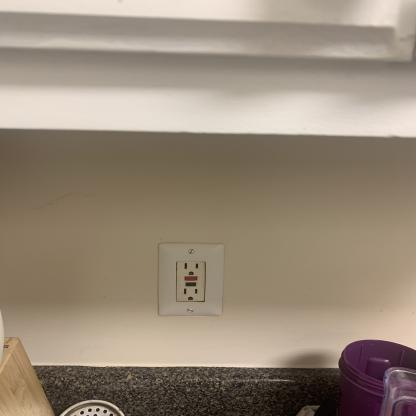OUTLET: (157, 242, 223, 316)
